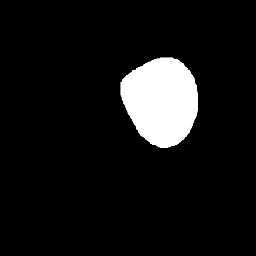mass: (122, 57, 200, 151)
